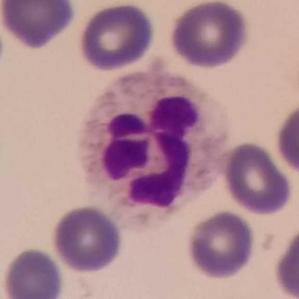Neutrophil: (70, 66, 235, 234)
RBC: (167, 0, 252, 70), (76, 0, 158, 72), (221, 139, 294, 217), (184, 208, 258, 281), (49, 203, 125, 274), (0, 0, 78, 50), (0, 245, 66, 299), (272, 222, 299, 299), (273, 100, 299, 177)
